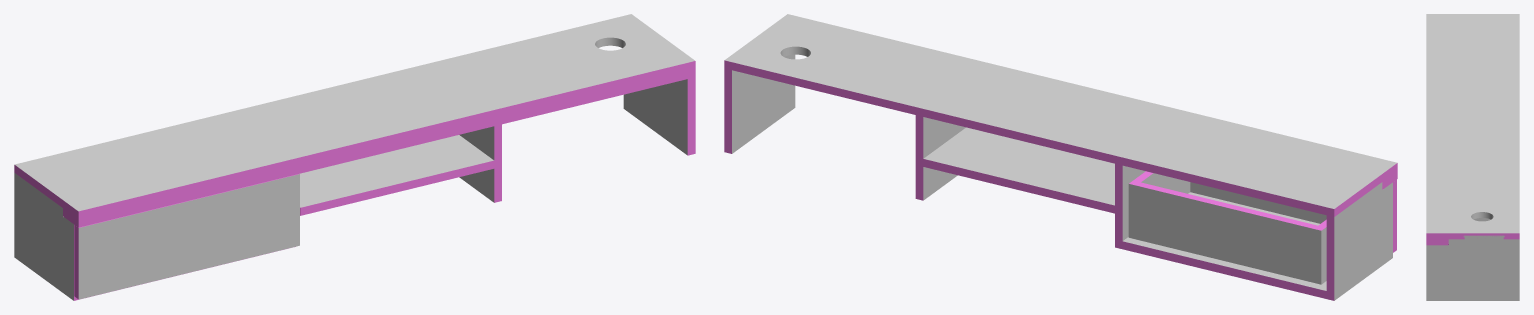
The picture shows the model from 3 angles, left to right: view 1: azimuth 30°, elevation 25°; view 2: azimuth 150°, elevation 25°; view 3: azimuth 270°, elevation 25°; orthographic projection. The views are drawn at different scales.
Visible parts, largest first — view 1: Geom3D_ABF_PART_2____LYR_[Layer0]____2. Kệ máy tính - Nóc <C, Geom3D_ABF_PART_11____LYR_[_CÁNH]____11. Kệ máy tính - Mặt c, Geom3D (×6), Geom3D_ABF_PART_4____LYR_[Layer0]____4. Kệ máy tính - Tầng, Geom3D_ABF_PART_7____LYR_[Layer0]____7. Kệ máy tính - Hông t, Geom3D_ABF_PART_3____LYR_[Layer0]____3. Kệ máy tính - Hông p, Geom3D_ABF_PART_5____LYR_[Layer0]____5. Kệ máy tính - Vách; view 2: Geom3D_ABF_PART_2____LYR_[Layer0]____2. Kệ máy tính - Nóc <C, Geom3D (×8), Geom3D_ABF_PART_14____LYR_[_HỘC_KÉO]____14. Kệ máy tính - HK, Geom3D_ABF_PART_4____LYR_[Layer0]____4. Kệ máy tính - Tầng, Geom3D_ABF_PART_7____LYR_[Layer0]____7. Kệ máy tính - Hông t, Geom3D_ABF_PART_3____LYR_[Layer0]____3. Kệ máy tính - Hông p, Geom3D_ABF_PART_12____LYR_[_HỘC_KÉO]____12. Kệ máy tính - HK, Geom3D_ABF_PART_5____LYR_[Layer0]____5. Kệ máy tính - Vách, Geom3D_ABF_PART_13____LYR_[_HỘC_KÉO]____13. Kệ máy tính - HK, Geom3D_ABF_PART_8____LYR_[Layer0]____8. Kệ máy tính - Đáy, Geom3D_ABF_PART_10____LYR_[_HỘC_KÉO]____10. Kệ máy tính - HK, Geom3D_ABF_PART_6____LYR_[Layer0]____6. Kệ máy tính - Vách (+1 smaller); view 3: Geom3D_ABF_PART_2____LYR_[Layer0]____2. Kệ máy tính - Nóc <C, Geom3D_ABF_PART_3____LYR_[Layer0]____3. Kệ máy tính - Hông p, Geom3D (×2).
Boxes of the visible parts, <box> form: Geom3D_ABF_PART_2____LYR_[Layer0]____2. Kệ máy tính - Nóc <C: <box>14,14,694,211</box>; Geom3D_ABF_PART_11____LYR_[_CÁNH]____11. Kệ máy tính - Mặt c: <box>78,174,299,299</box>; Geom3D (×6): <box>14,61,695,298</box>; Geom3D_ABF_PART_4____LYR_[Layer0]____4. Kệ máy tính - Tầng: <box>300,135,493,207</box>; Geom3D_ABF_PART_7____LYR_[Layer0]____7. Kệ máy tính - Hông t: <box>14,173,73,300</box>; Geom3D_ABF_PART_3____LYR_[Layer0]____3. Kệ máy tính - Hông p: <box>623,79,687,155</box>; Geom3D_ABF_PART_5____LYR_[Layer0]____5. Kệ máy tính - Vách: <box>459,126,494,202</box>; Geom3D_ABF_PART_2____LYR_[Layer0]____2. Kệ máy tính - Nóc <C: <box>725,14,1397,208</box>; Geom3D (×8): <box>724,60,1397,300</box>; Geom3D_ABF_PART_14____LYR_[_HỘC_KÉO]____14. Kệ máy tính - HK: <box>1131,185,1318,275</box>; Geom3D_ABF_PART_4____LYR_[Layer0]____4. Kệ máy tính - Tầng: <box>923,127,1114,205</box>; Geom3D_ABF_PART_7____LYR_[Layer0]____7. Kệ máy tính - Hông t: <box>1334,182,1392,300</box>; Geom3D_ABF_PART_3____LYR_[Layer0]____3. Kệ máy tính - Hông p: <box>732,54,795,153</box>; Geom3D_ABF_PART_12____LYR_[_HỘC_KÉO]____12. Kệ máy tính - HK: <box>1132,192,1319,283</box>; Geom3D_ABF_PART_5____LYR_[Layer0]____5. Kệ máy tính - Vách: <box>923,117,965,200</box>; Geom3D_ABF_PART_13____LYR_[_HỘC_KÉO]____13. Kệ máy tính - HK: <box>1190,182,1326,223</box>; Geom3D_ABF_PART_8____LYR_[Layer0]____8. Kệ máy tính - Đáy: <box>1123,237,1326,290</box>; Geom3D_ABF_PART_10____LYR_[_HỘC_KÉO]____10. Kệ máy tính - HK: <box>1128,173,1190,239</box>; Geom3D_ABF_PART_6____LYR_[Layer0]____6. Kệ máy tính - Vách: <box>1122,165,1145,240</box>; Geom3D_ABF_PART_2____LYR_[Layer0]____2. Kệ máy tính - Nóc <C: <box>1426,14,1519,233</box>; Geom3D_ABF_PART_3____LYR_[Layer0]____3. Kệ máy tính - Hông p: <box>1426,235,1519,300</box>; Geom3D (×2): <box>1426,233,1519,245</box>.
Bounding box in the file's own units: 1.39 × 0.2 × 0.25.
